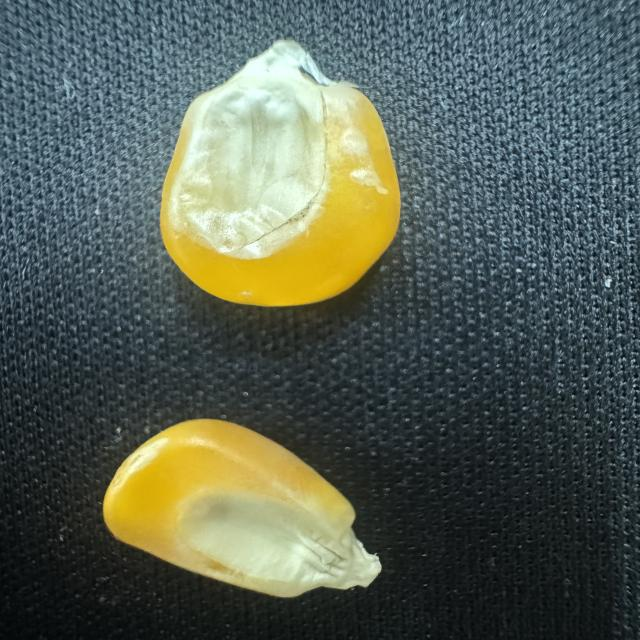Good-Seed: (155, 35, 409, 318), (94, 408, 387, 608)
